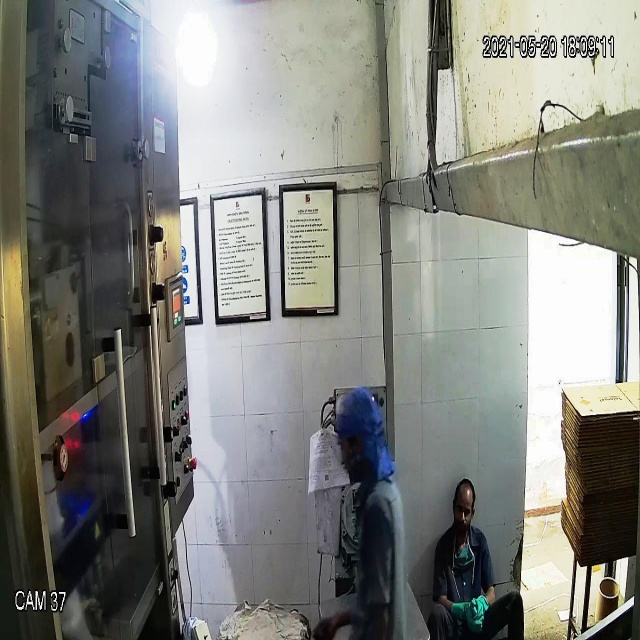Sin_gafas: (452, 497, 475, 522)
